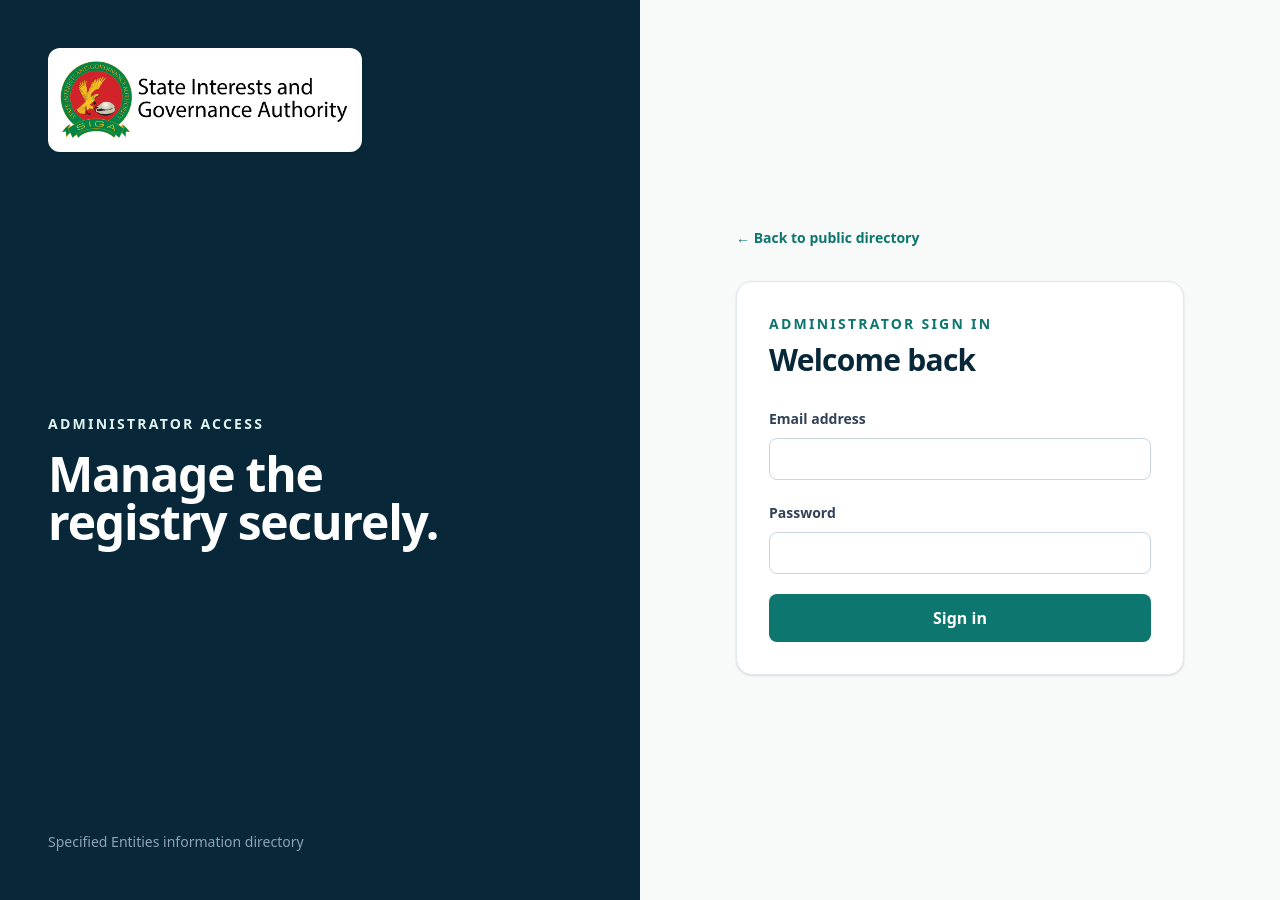
Test: administrator interface › shows invalid-credential errors without establishing a session
Type "admin@example.test" into the field labelled "Email address" at coordinates (960, 459), box [769, 438, 1151, 480]
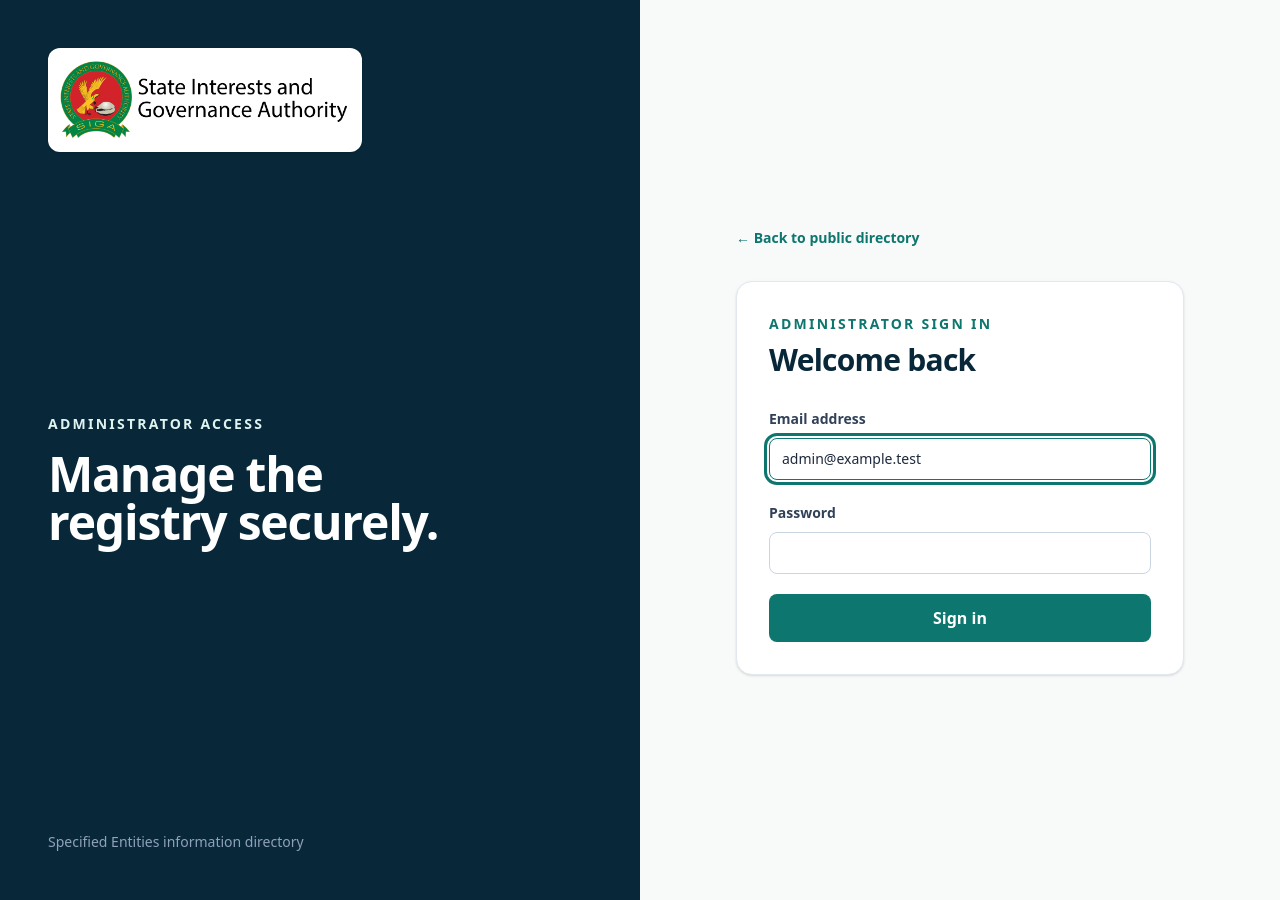
Type "wrong-password" into the password field labelled "Password" at coordinates (960, 553), box [769, 532, 1151, 574]
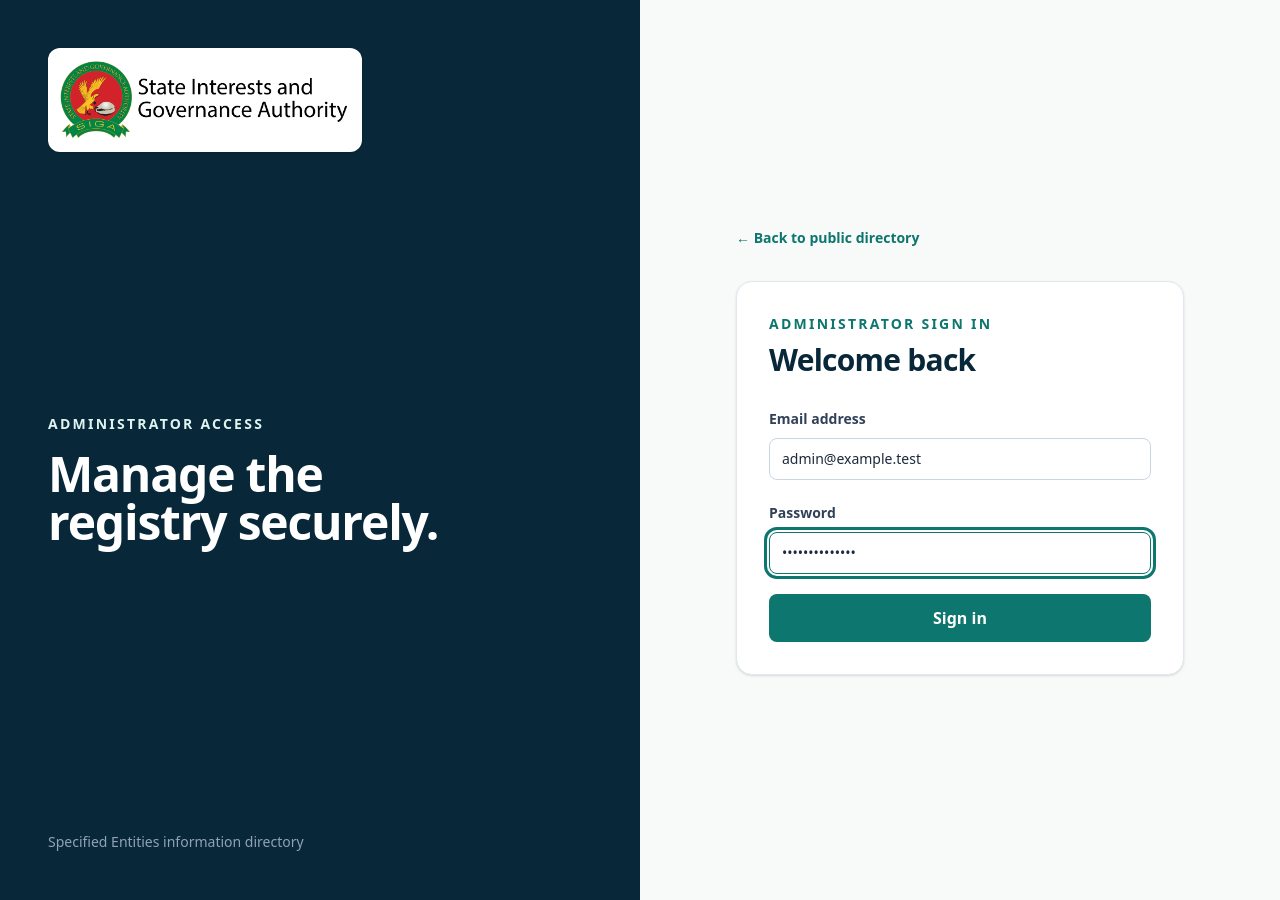
Click the button "Sign in" at coordinates (960, 618), box [769, 594, 1151, 642]
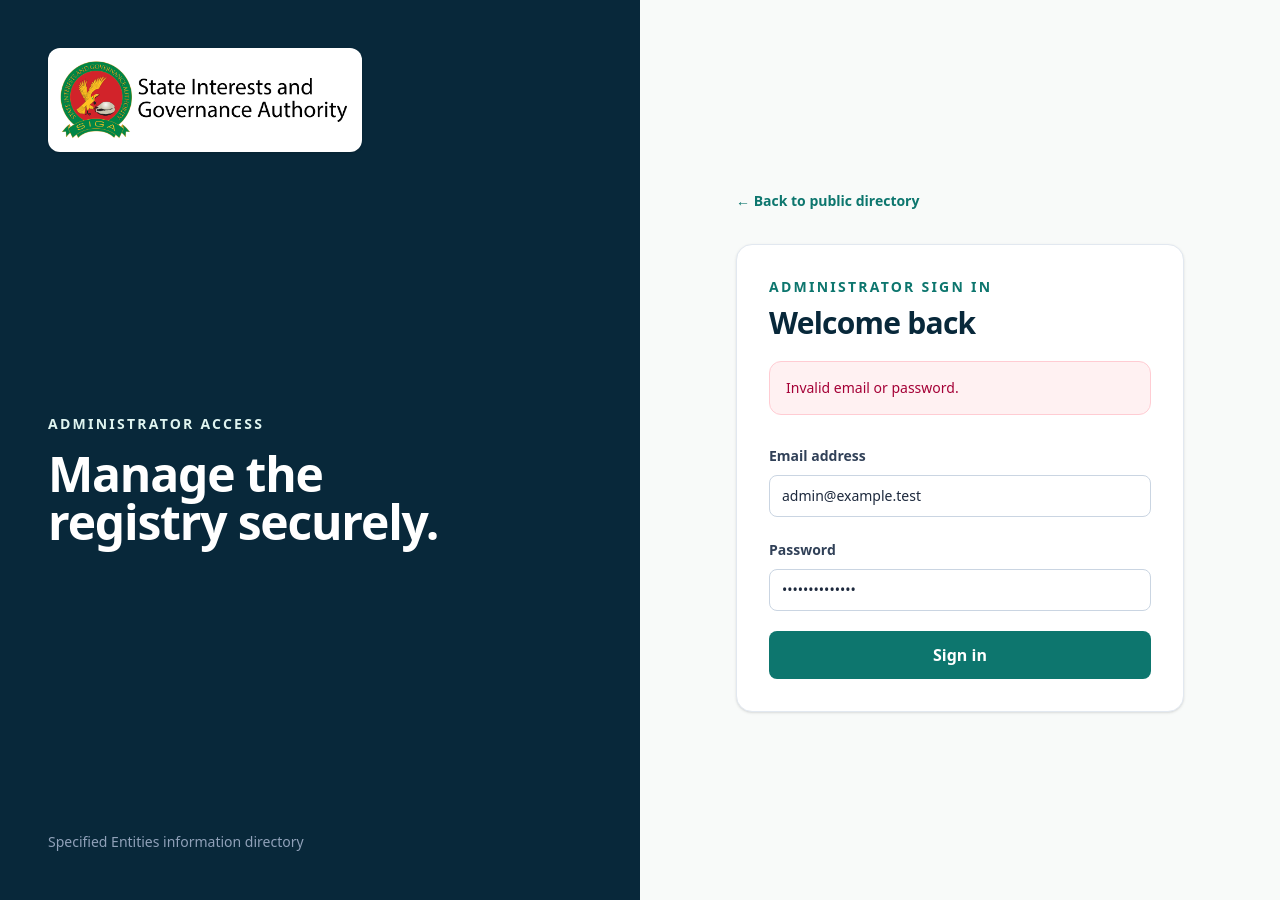
Expected: the message reads "Invalid email or password.", [786, 378, 959, 397]
